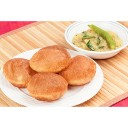poori: (30, 43, 71, 72), (60, 55, 96, 87), (29, 71, 67, 101), (3, 58, 40, 86)
